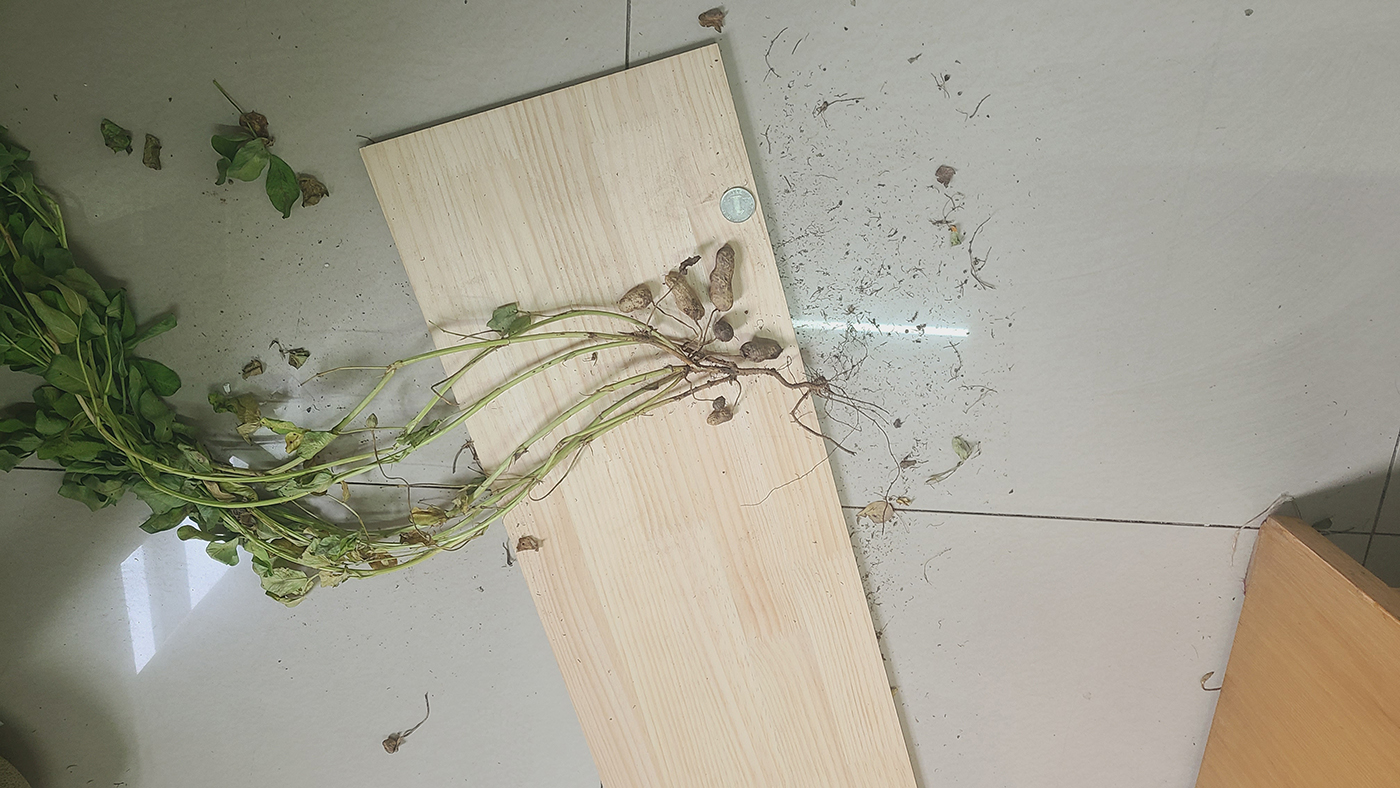h: (665, 273, 706, 320), (617, 288, 653, 311)
l: (709, 245, 733, 312), (741, 339, 783, 364), (707, 408, 733, 426), (712, 322, 735, 341), (679, 254, 700, 274), (711, 394, 727, 408)
